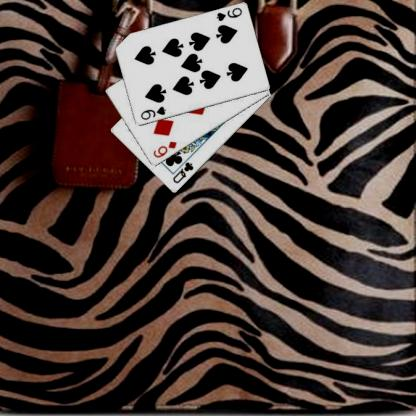6D: (150, 138, 178, 159)
9S: (138, 103, 167, 121), (214, 5, 243, 23)
QC: (170, 159, 194, 185)
